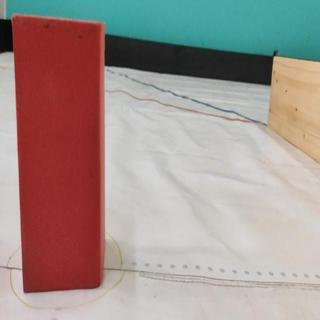redbox: (12, 13, 105, 293)
